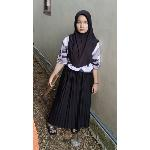Kapak: (40, 73, 60, 106)
